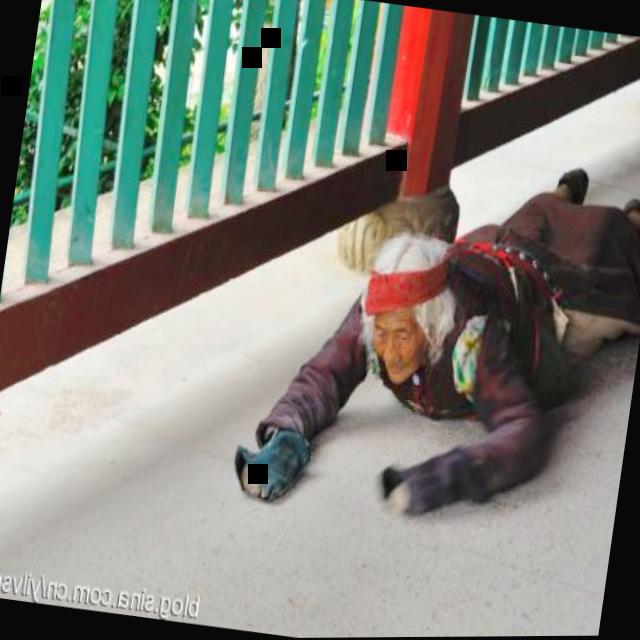Fall-Detected: (230, 115, 640, 556)
